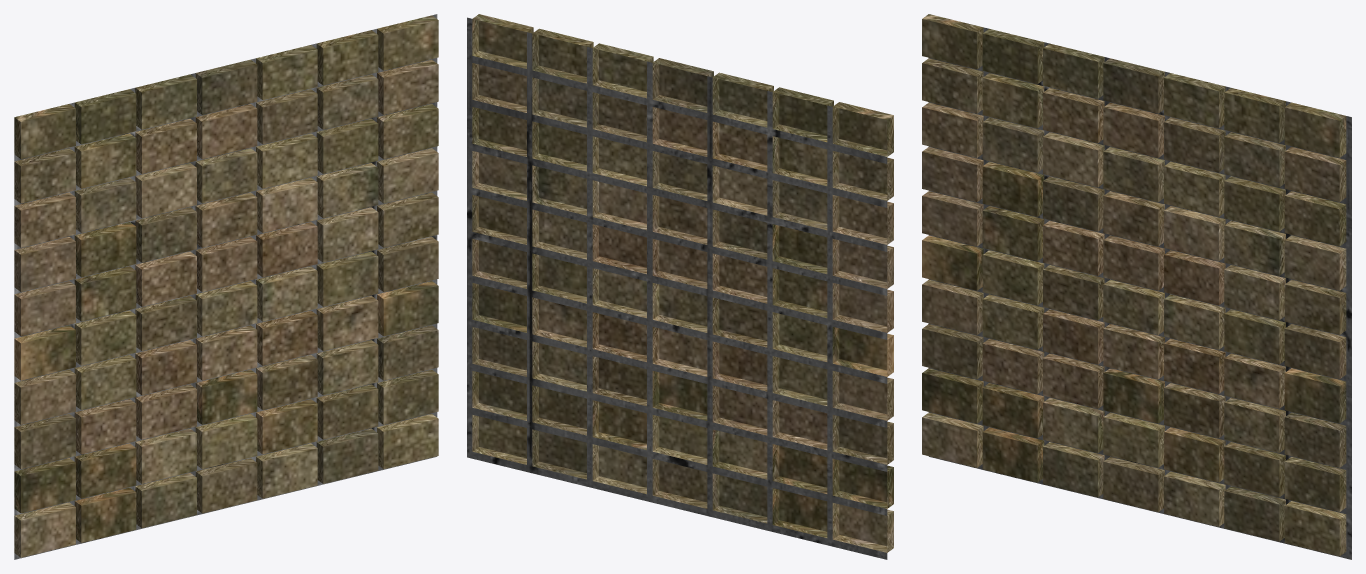
Rendered from Pared_022.fbx.
3 renders of one model, left to right at view 1: azimuth 30°, elevation 25°; view 2: azimuth 150°, elevation 25°; view 3: azimuth 330°, elevation 25°, orthographic.
Parts seen in each view (by area): view 1: Plane; view 2: Plane; view 3: Plane.
Boxes of the visible parts, left/top/right/bottom form: Plane: left=14, top=14, right=438, bottom=559; Plane: left=467, top=14, right=893, bottom=559; Plane: left=922, top=14, right=1351, bottom=559.
Bounding box in the file's own units: 600 × 600 × 16.4.
